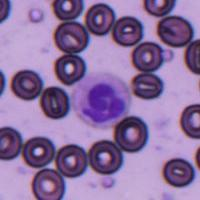N: (70, 72, 130, 129)
